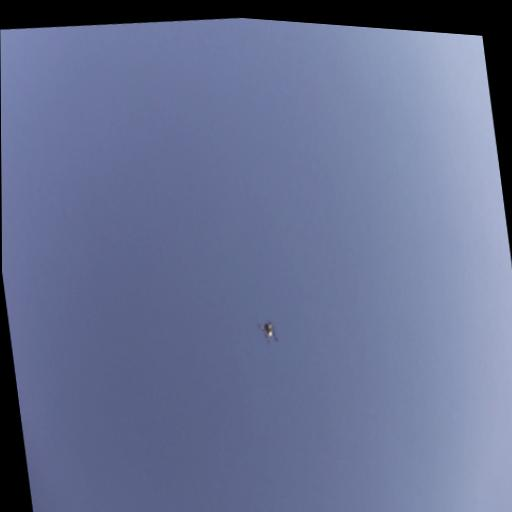drones: (254, 311, 280, 348)
